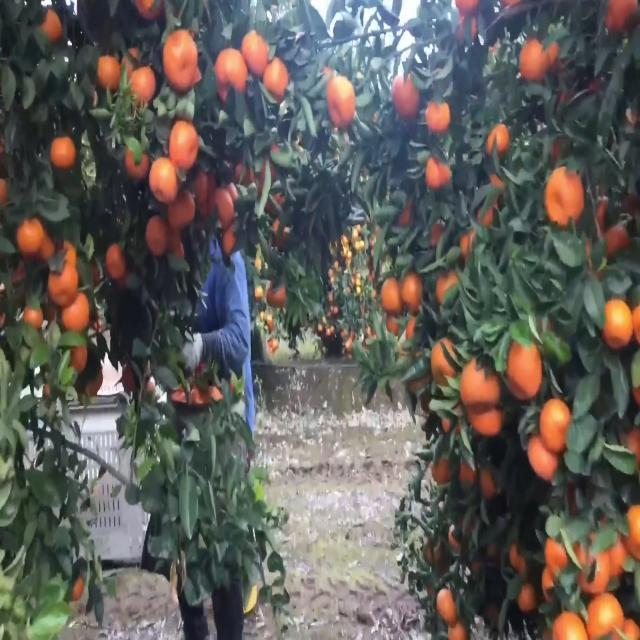Jeruk Sudah Matang: (502, 332, 544, 399), (542, 167, 584, 228), (460, 353, 501, 411), (163, 31, 198, 91), (582, 590, 624, 640), (538, 394, 574, 452), (213, 45, 248, 103), (600, 292, 633, 349), (526, 436, 560, 484), (48, 254, 80, 304), (327, 74, 355, 130), (168, 117, 198, 168), (148, 155, 178, 205), (603, 0, 640, 39), (517, 40, 548, 86), (391, 73, 420, 121), (240, 31, 268, 78), (431, 336, 458, 384), (62, 292, 92, 334), (263, 55, 289, 102), (128, 66, 158, 106), (403, 272, 429, 318), (95, 49, 122, 92), (18, 215, 44, 259), (378, 274, 404, 318), (552, 610, 588, 640), (425, 151, 453, 189), (425, 96, 452, 134), (146, 214, 168, 260), (124, 140, 148, 180), (210, 186, 234, 226), (36, 10, 64, 44), (484, 123, 511, 157), (104, 241, 128, 279), (437, 584, 459, 624), (51, 134, 76, 167), (508, 542, 531, 572), (515, 580, 537, 610)
